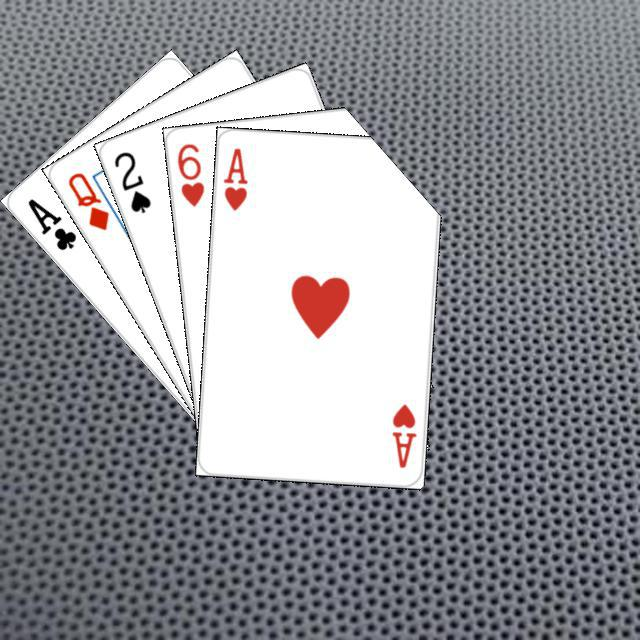2s: (109, 146, 153, 215)
6h: (172, 138, 206, 208)
Ac: (22, 193, 79, 253)
Ah: (387, 399, 419, 470), (219, 142, 249, 213)
Qd: (62, 167, 111, 233)
